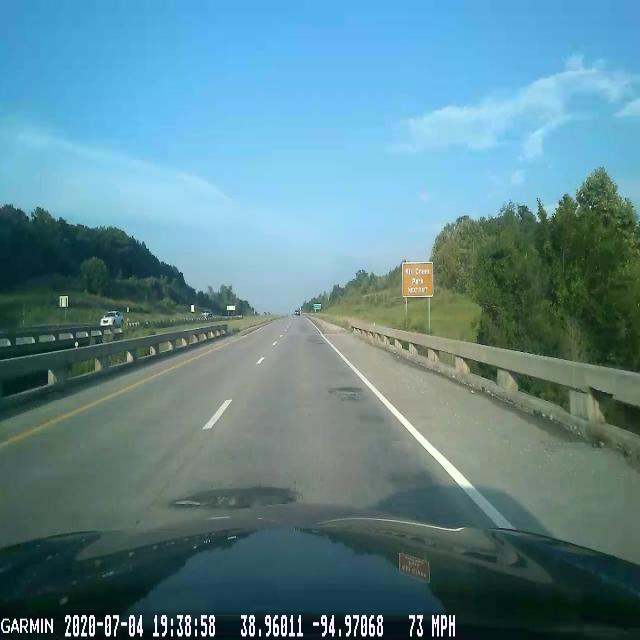Pothole: (166, 481, 301, 523), (327, 376, 367, 418)
